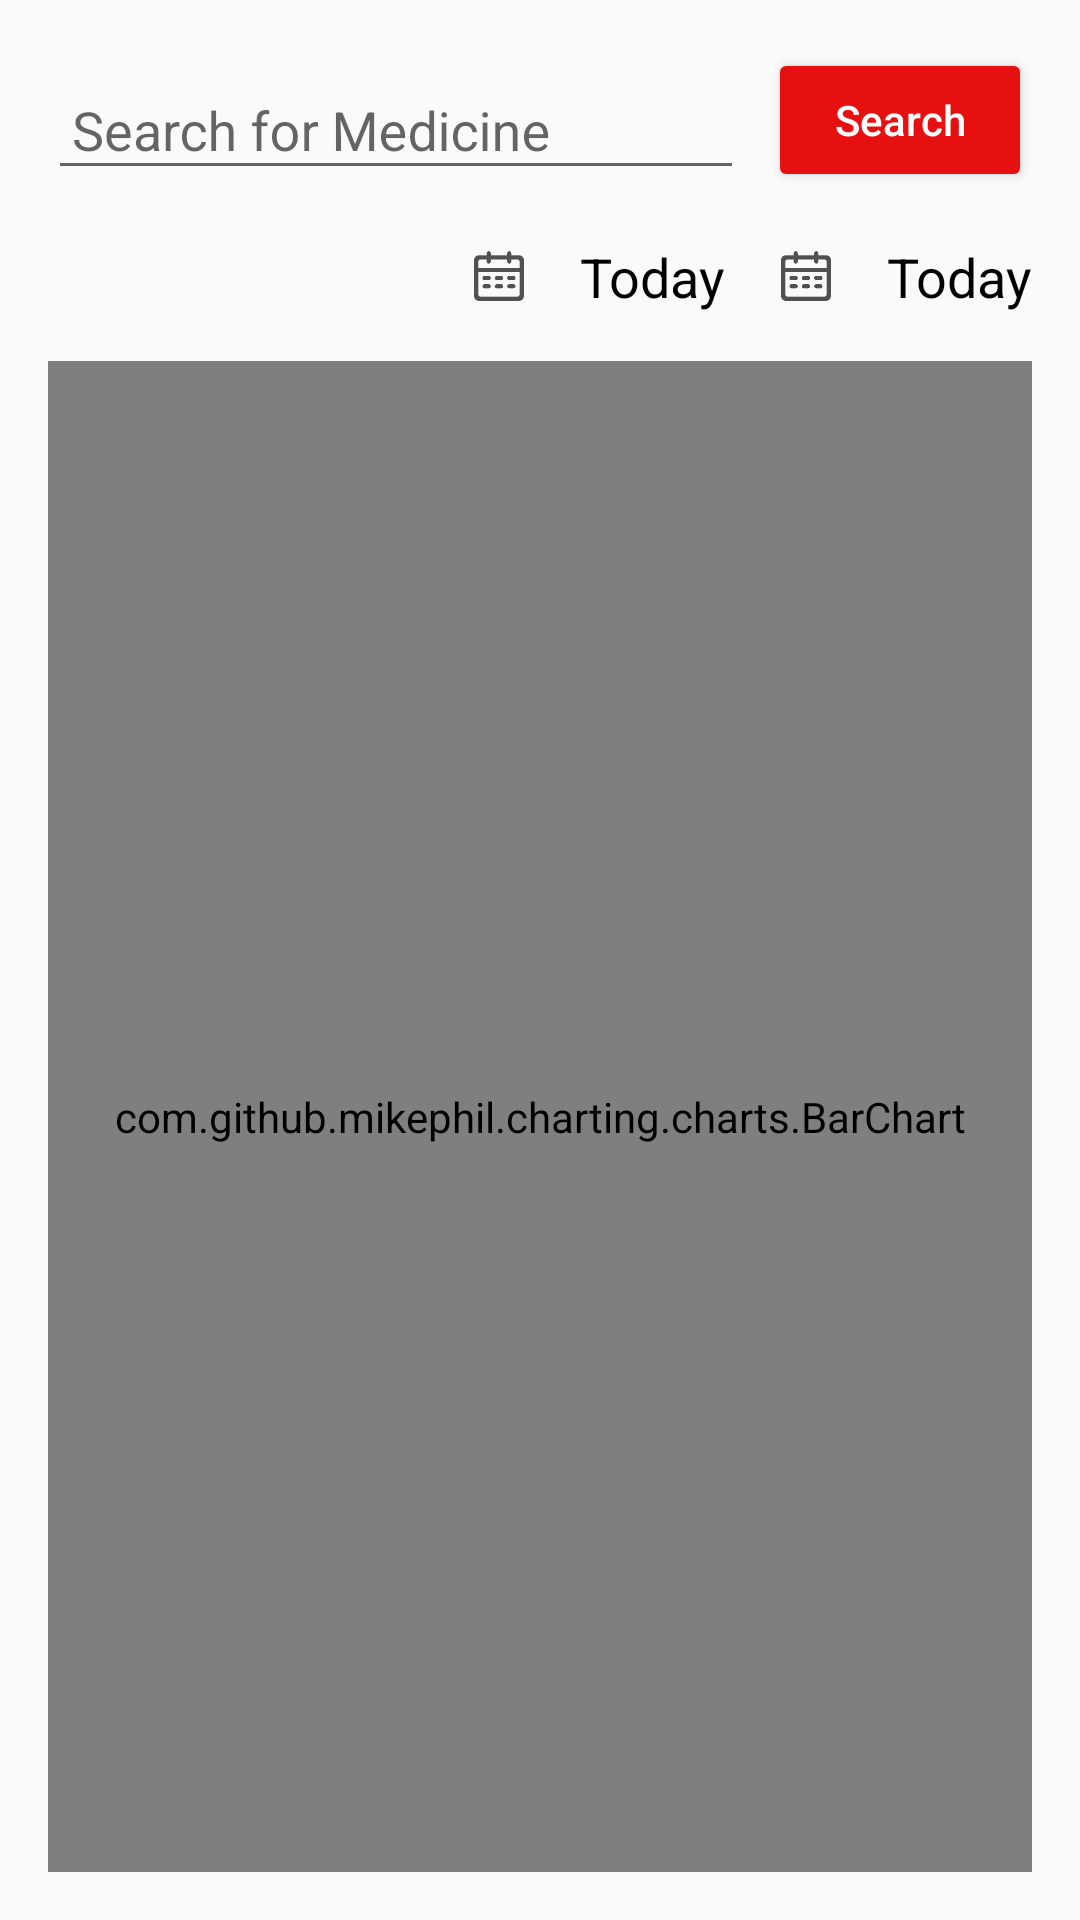

Screen size 1080*1920. Icon name, then its box in pixels as (x1, y1, x2, y2):
Select End Date: (781, 251, 831, 301)
Select Start Date: (474, 251, 524, 301)
